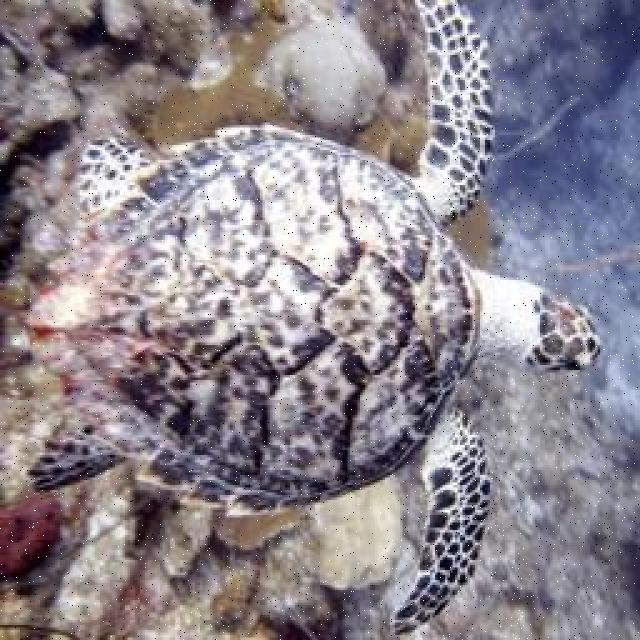fish: (18, 1, 603, 637)
